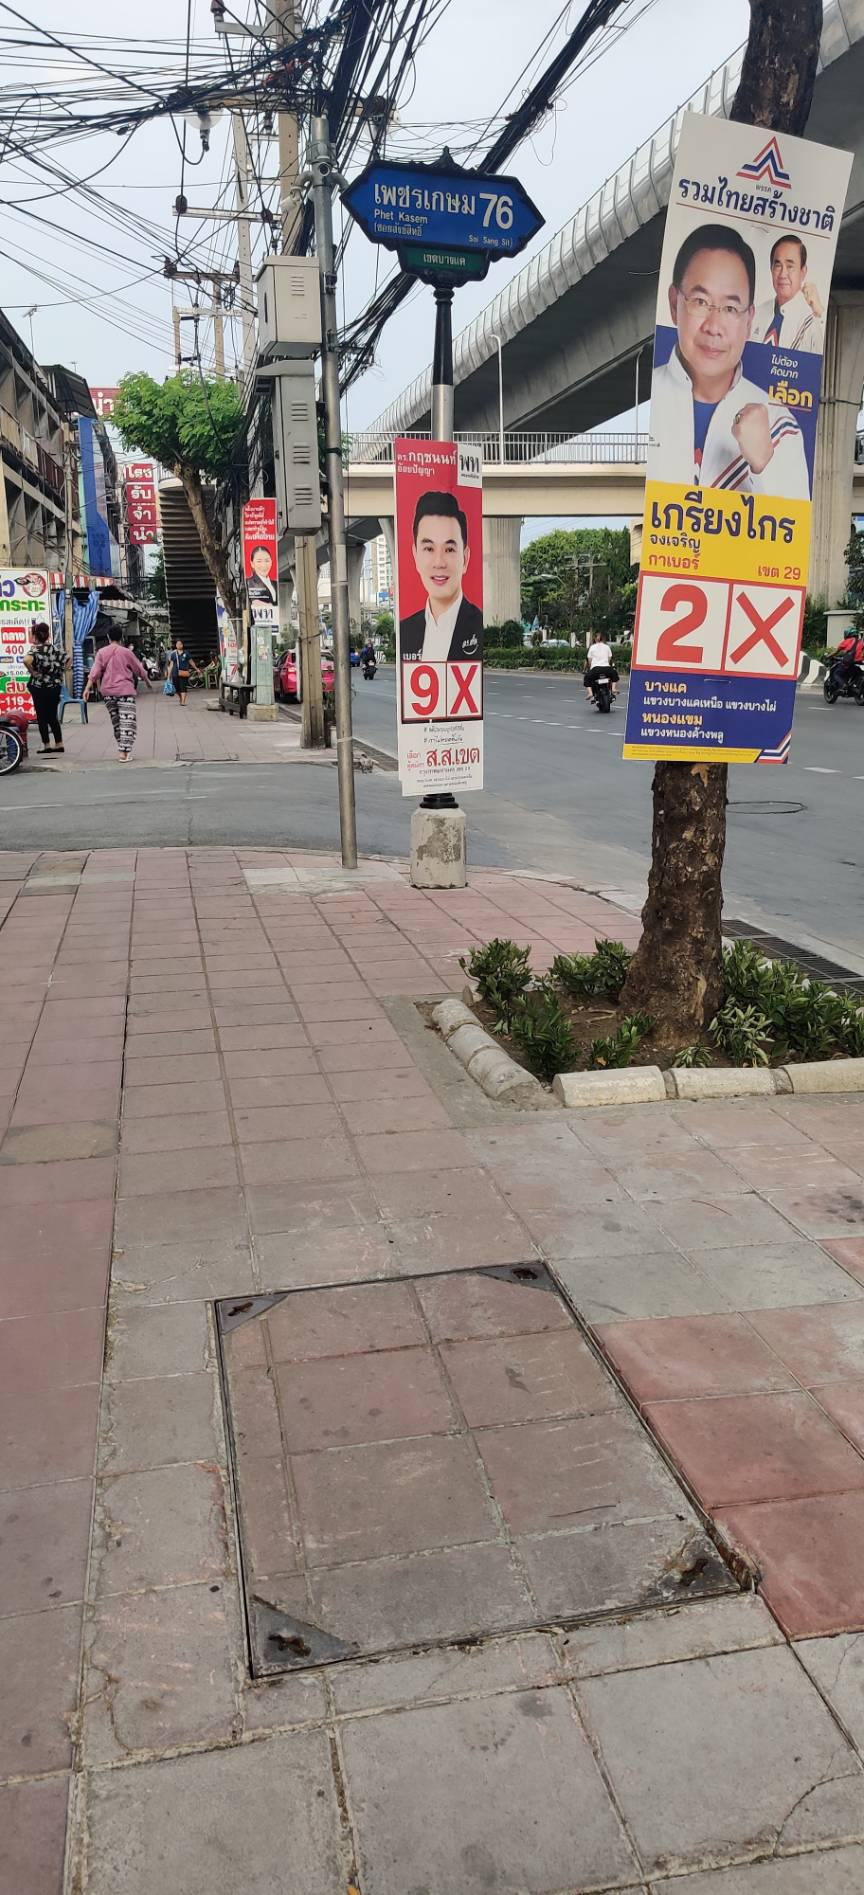Banner: (633, 91, 848, 759), (393, 433, 483, 792), (234, 496, 283, 641)
